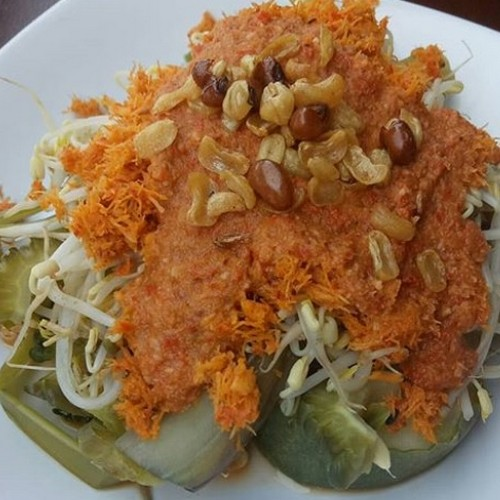serombotan: (55, 28, 497, 484)
